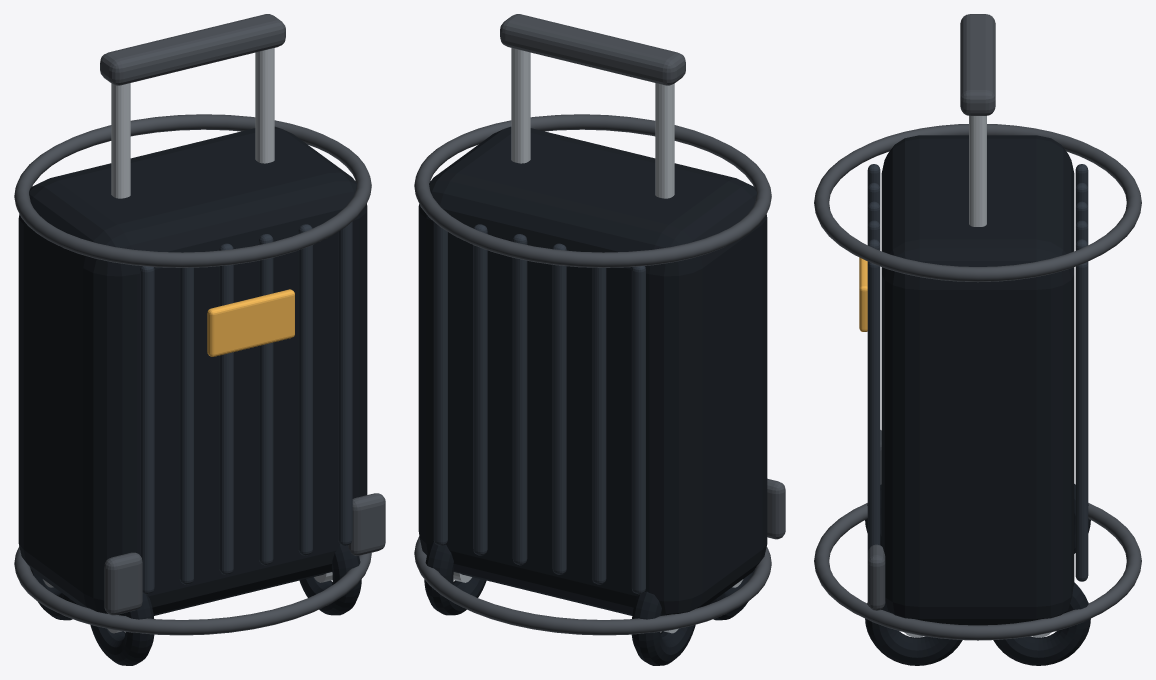
The model's file is luggage-hardcase.glb.
3 renders of one model, left to right at view 1: azimuth 30°, elevation 25°; view 2: azimuth 150°, elevation 25°; view 3: azimuth 270°, elevation 25°, orthographic. The views are drawn at different scales.
Visible parts, largest first — view 1: luggage-black-ribbed Static Batch; view 2: luggage-black-ribbed Static Batch; view 3: luggage-black-ribbed Static Batch.
Boxes of the visible parts, x1=… form: luggage-black-ribbed Static Batch: x1=14, y1=14, x2=385, y2=665; luggage-black-ribbed Static Batch: x1=414, y1=14, x2=785, y2=665; luggage-black-ribbed Static Batch: x1=814, y1=14, x2=1141, y2=665.
Size of the model in its own units: 0.6998 by 1.23 by 0.647.
